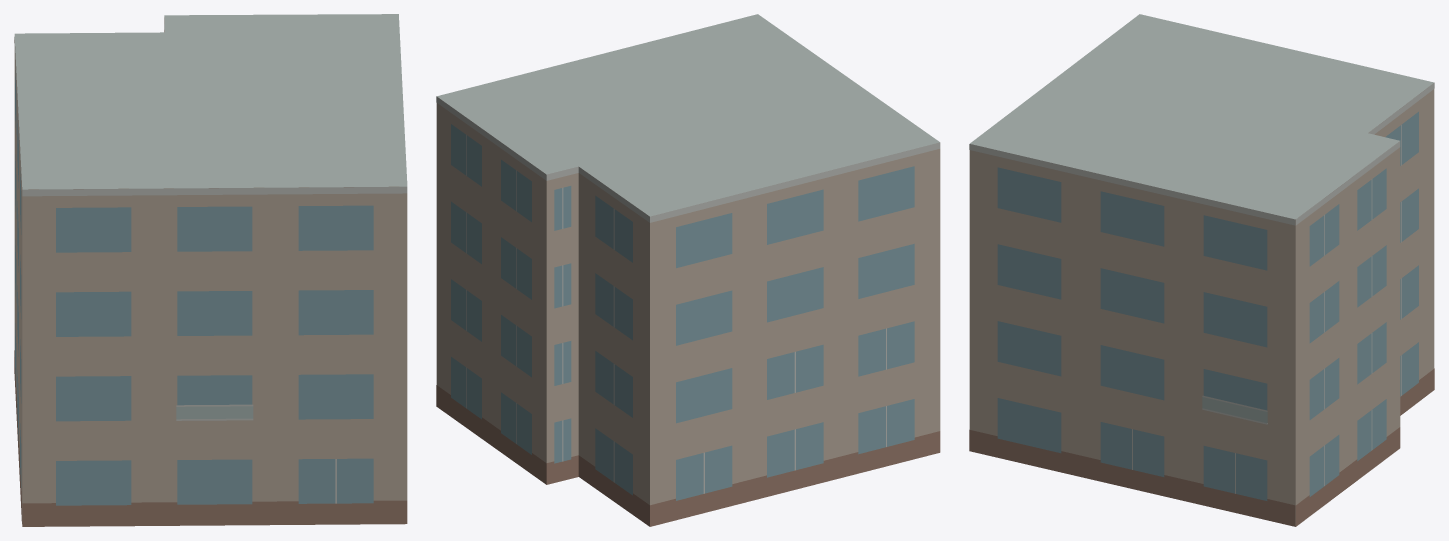
File: survey-upis-32684275.glb
The picture shows the model from 3 angles, left to right: view 1: azimuth 30°, elevation 25°; view 2: azimuth 150°, elevation 25°; view 3: azimuth 270°, elevation 25°; orthographic projection. The views are drawn at different scales.
Parts seen in each view (by area): view 1: survey-upis-32684275.tmp; view 2: survey-upis-32684275.tmp; view 3: survey-upis-32684275.tmp.
Part boxes in pixels (x1=…): survey-upis-32684275.tmp: x1=14, y1=14, x2=407, y2=526; survey-upis-32684275.tmp: x1=436, y1=14, x2=940, y2=526; survey-upis-32684275.tmp: x1=969, y1=14, x2=1434, y2=526.
Bounding box in the file's own units: 17.36 × 12.1 × 16.6.
